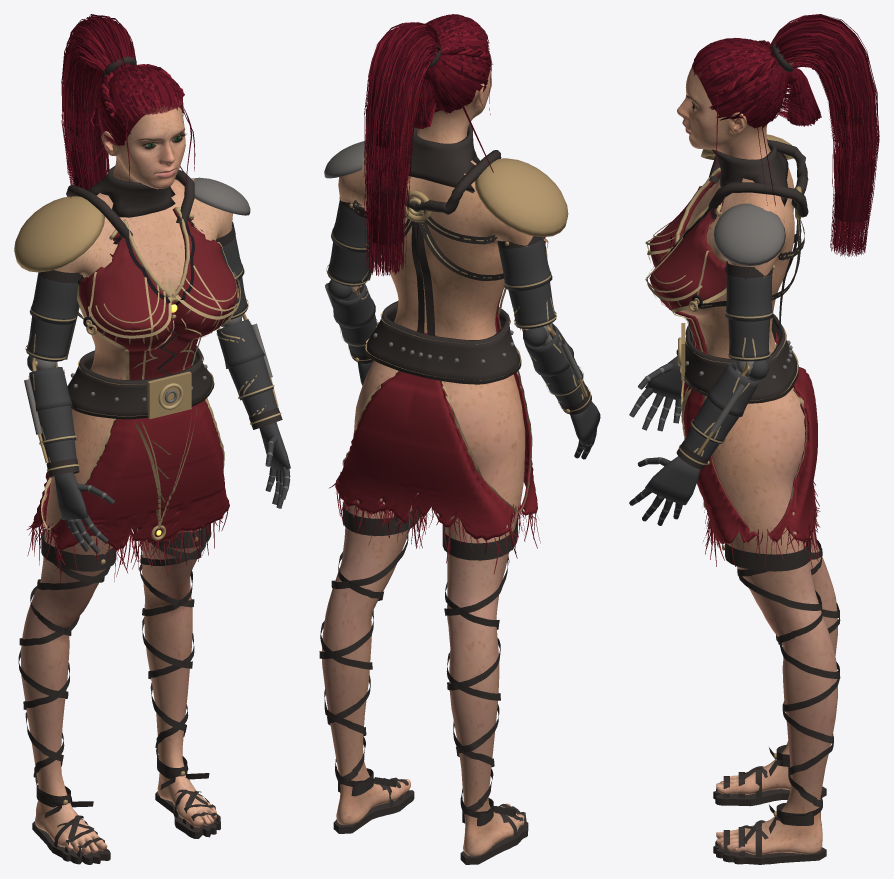
Rendered from crew_cas.glb.
3 renders of one model, left to right at view 1: azimuth 30°, elevation 25°; view 2: azimuth 150°, elevation 25°; view 3: azimuth 270°, elevation 25°, orthographic. The views are drawn at different scales.
Parts seen in each view (by area): view 1: Human, robe, corset, hair_strands.001, pauldron, belt, hair_strands.002, sandal_lace.001, sandal_lace, hair_scalp.001, hair_strands, threads (+28 smaller); view 2: Human, robe, hair_strands.001, belt, hair_strands.002, pauldron, tail_core, hair_strands, hair_scalp.001, sandal_lace, sandal_lace.001, collar (+23 smaller); view 3: Human, hair_strands.001, robe, corset, hair_strands.002, hair_scalp.001, hair_strands, tail_core, shoulder_guard, belt, sandal_lace, hair_scalp (+21 smaller).
Part boxes in pixels (x1=…): Human: x1=21, y1=107, x2=232, y2=854; robe: x1=31, y1=363, x2=229, y2=551; corset: x1=79, y1=208, x2=237, y2=379; hair_strands.001: x1=63, y1=14, x2=195, y2=189; pauldron: x1=14, y1=196, x2=104, y2=272; belt: x1=67, y1=345, x2=214, y2=419; hair_strands.002: x1=61, y1=15, x2=132, y2=188; sandal_lace.001: x1=18, y1=563, x2=110, y2=817; sandal_lace: x1=139, y1=542, x2=209, y2=789; hair_scalp.001: x1=70, y1=66, x2=184, y2=197; hair_strands: x1=61, y1=16, x2=132, y2=186; threads: x1=27, y1=500, x2=228, y2=582; Human: x1=321, y1=57, x2=532, y2=856; robe: x1=335, y1=314, x2=537, y2=540; hair_strands.001: x1=364, y1=22, x2=440, y2=275; belt: x1=365, y1=301, x2=521, y2=384; hair_strands.002: x1=364, y1=22, x2=491, y2=276; pauldron: x1=474, y1=158, x2=568, y2=237; tail_core: x1=368, y1=29, x2=434, y2=245; hair_strands: x1=364, y1=23, x2=438, y2=276; hair_scalp.001: x1=414, y1=14, x2=493, y2=172; sandal_lace: x1=319, y1=535, x2=408, y2=787; sandal_lace.001: x1=444, y1=549, x2=516, y2=817; collar: x1=407, y1=124, x2=479, y2=192; Human: x1=677, y1=67, x2=837, y2=854; hair_strands.001: x1=716, y1=14, x2=879, y2=256; robe: x1=683, y1=332, x2=817, y2=544; corset: x1=649, y1=171, x2=726, y2=353; hair_strands.002: x1=769, y1=15, x2=877, y2=256; hair_scalp.001: x1=692, y1=38, x2=820, y2=205; hair_strands: x1=769, y1=16, x2=879, y2=256; tail_core: x1=772, y1=26, x2=874, y2=222; shoulder_guard: x1=713, y1=203, x2=785, y2=266; belt: x1=684, y1=313, x2=798, y2=403; sandal_lace: x1=737, y1=568, x2=840, y2=833; hair_scalp: x1=694, y1=38, x2=820, y2=125.
Bounding box in the file's own units: 0.5327 × 1.72 × 0.4812.
Materials: 19 (4 with a texture image).
